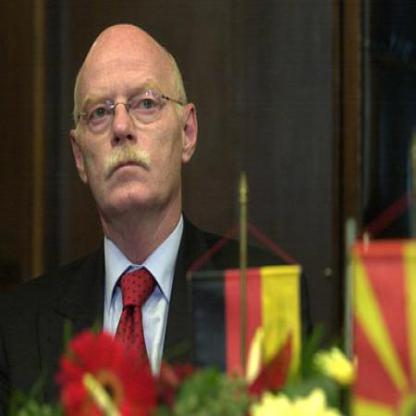face: (77, 27, 186, 223)
